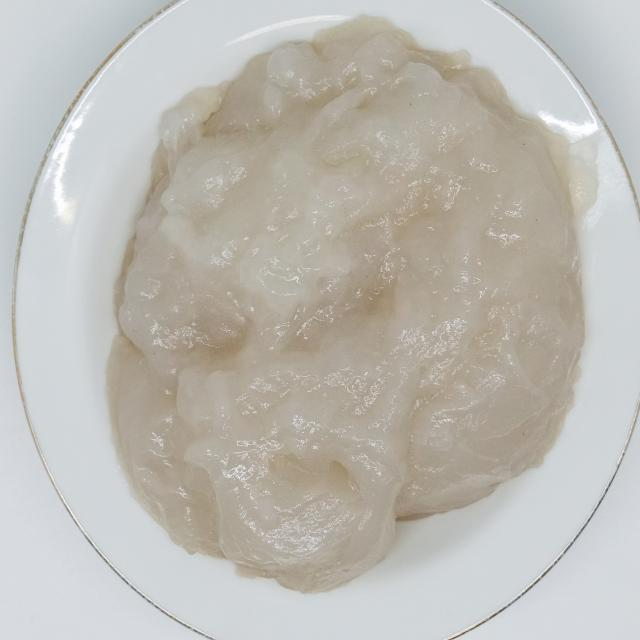Papeda: (92, 6, 594, 603)
